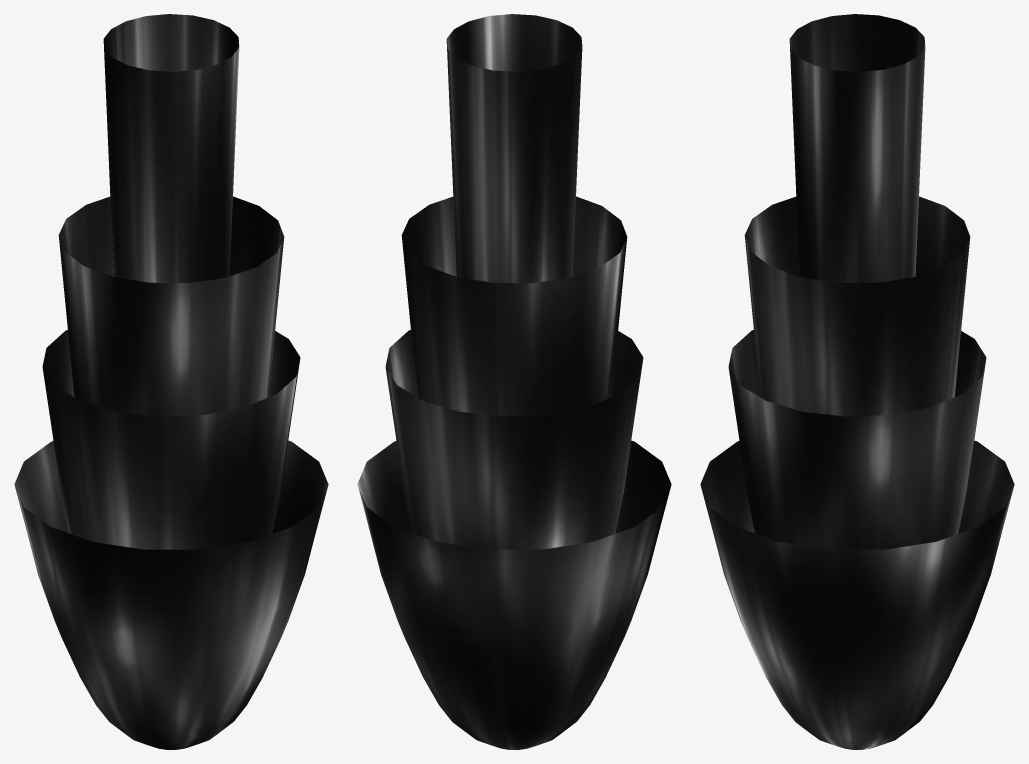
The picture shows the model from 3 angles, left to right: view 1: azimuth 30°, elevation 25°; view 2: azimuth 150°, elevation 25°; view 3: azimuth 270°, elevation 25°; orthographic projection.
Visible parts, largest first — view 1: Tube004; view 2: Tube004; view 3: Tube004.
Part boxes in pixels (x1,y1,x2,y2): Tube004: [14, 14, 328, 749]; Tube004: [357, 14, 671, 749]; Tube004: [700, 14, 1014, 749].
Bounding box in the file's own units: 277 × 693 × 281.
